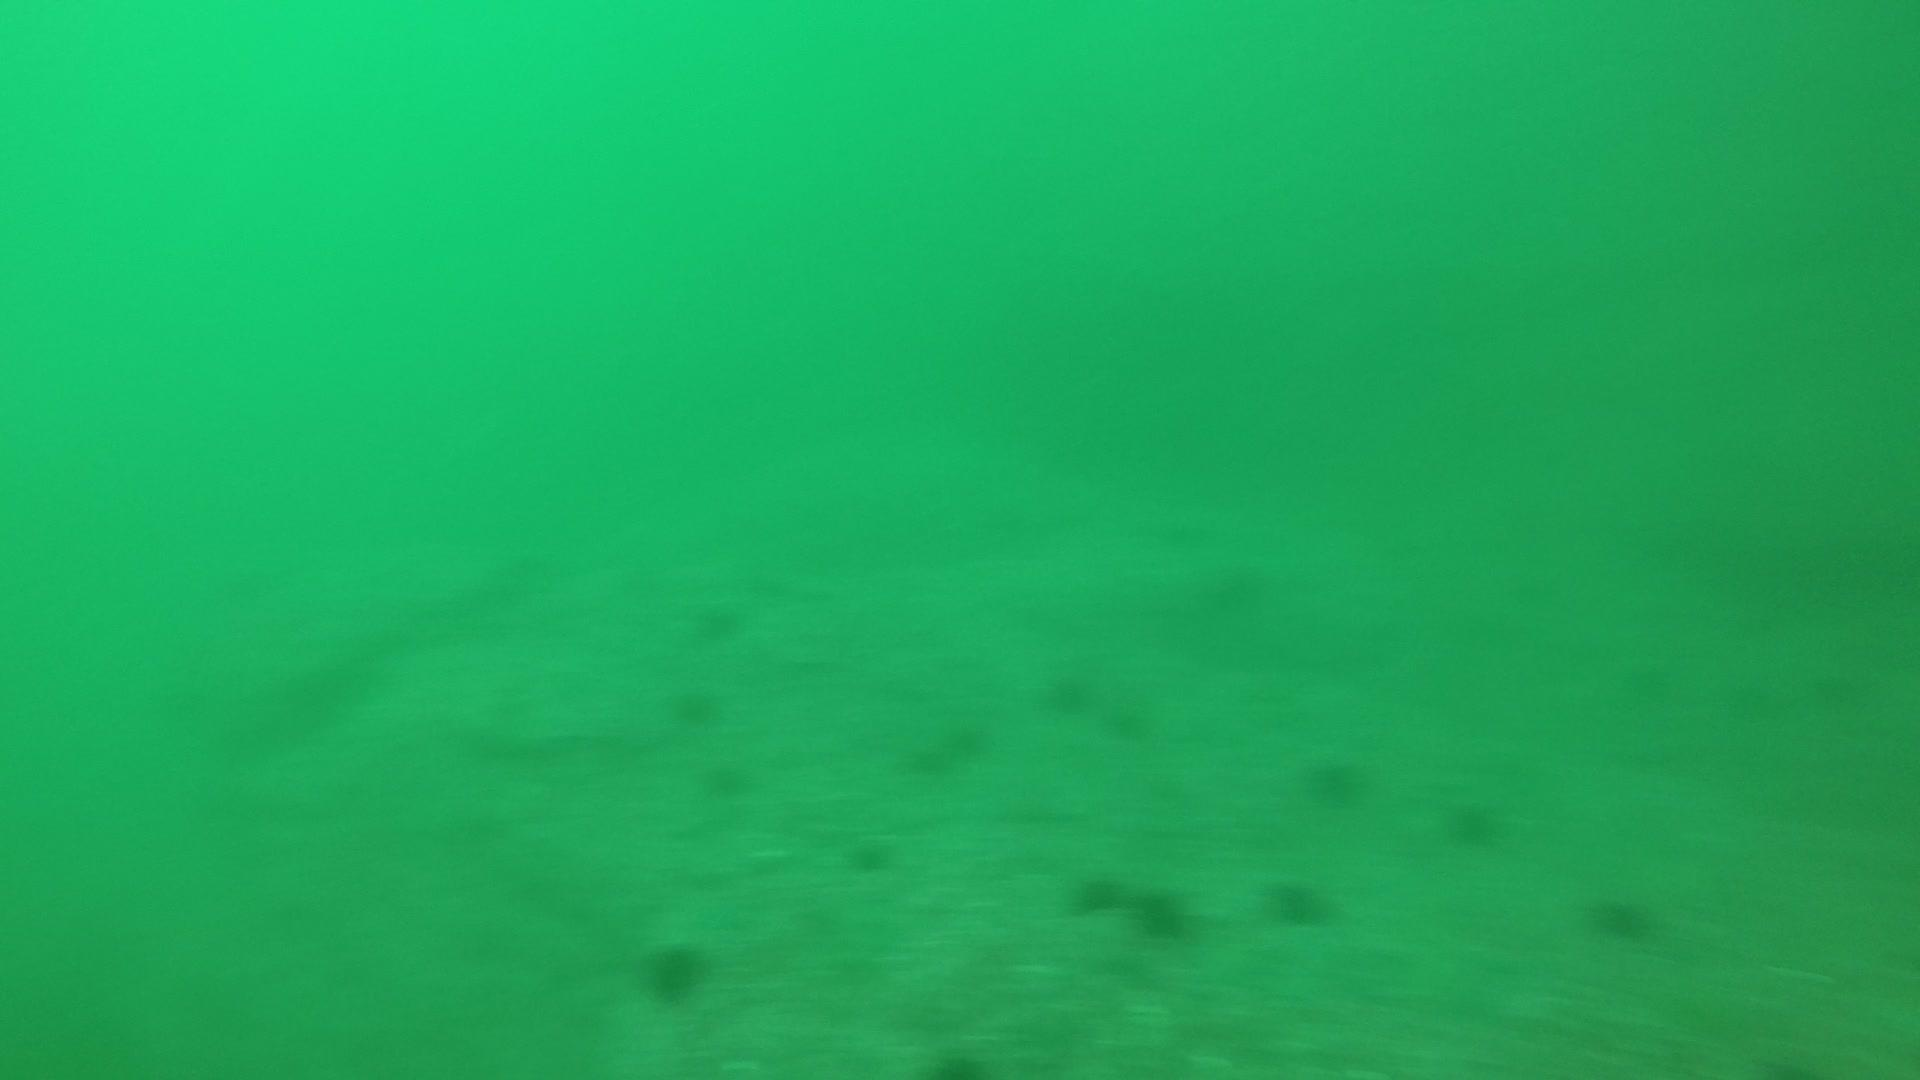echinus: (638, 935, 713, 1004), (1582, 885, 1660, 945), (1124, 880, 1195, 945), (1299, 746, 1371, 808), (1263, 873, 1337, 932), (1440, 793, 1509, 852), (1064, 866, 1131, 923), (1038, 663, 1098, 719), (687, 593, 746, 646), (1100, 694, 1158, 746), (666, 680, 725, 731), (840, 831, 899, 880), (698, 756, 757, 804), (901, 738, 953, 778), (943, 720, 996, 760)
